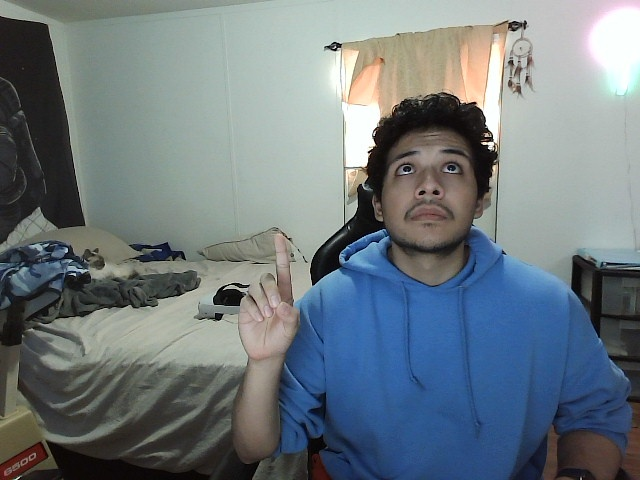D: (234, 231, 306, 360)
